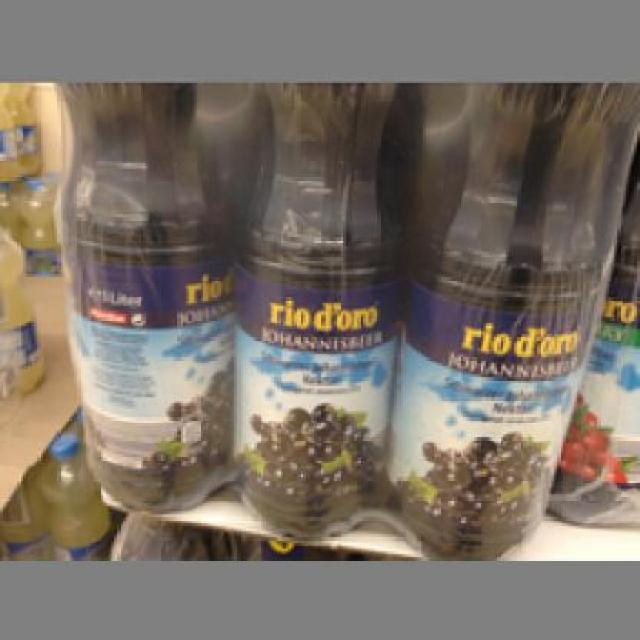Juice: (374, 82, 634, 555), (226, 83, 400, 540), (55, 80, 232, 509)
